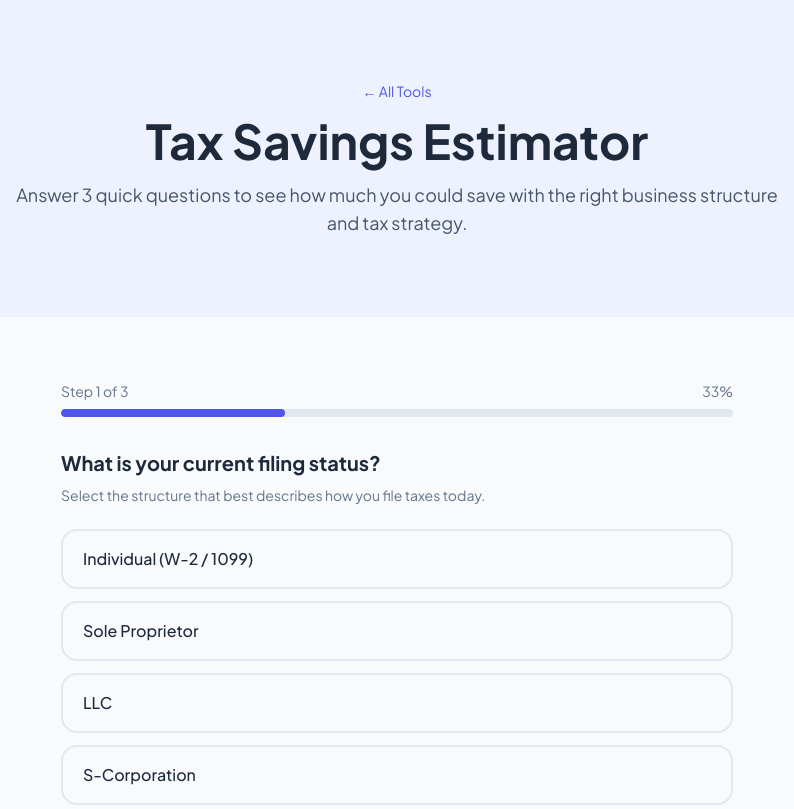
TaxSavingsEstimator – step navigation › step 2 shows all revenue options
The width and height of the screenshot is (794, 809).
What coordinates should you click on to do the following:
click the button "LLC"
I would click on:
 (98, 702)
Its box is top-left (61, 673), bottom-right (733, 733).
(page scrolled)
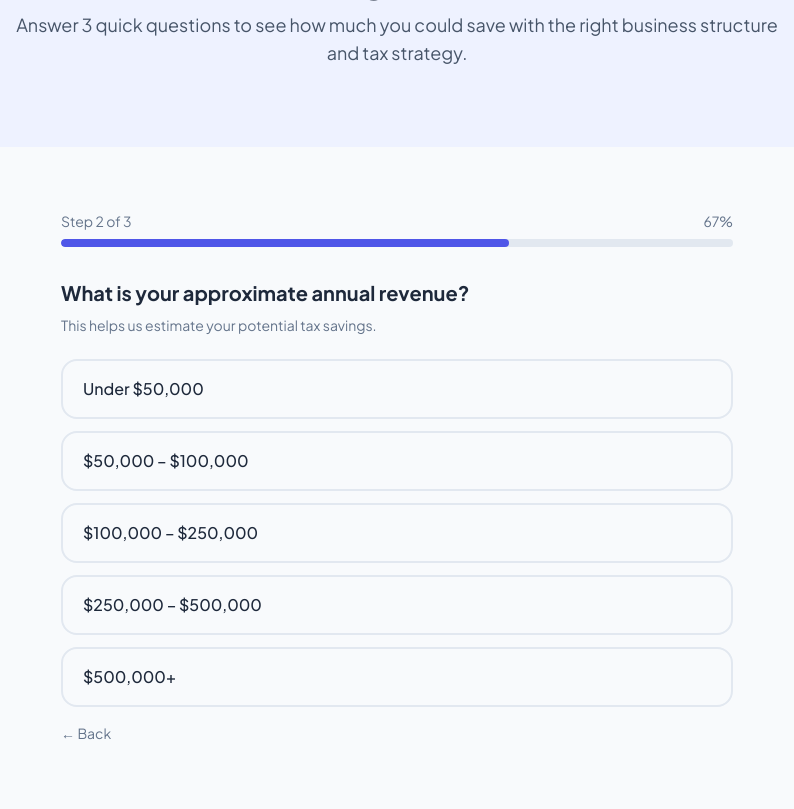
Expected: the text "Under $50,000" is shown, top-left (83, 378), bottom-right (204, 399)
Expected: the text "$50,000 – $100,000" is shown, top-left (83, 450), bottom-right (249, 471)
Expected: the text "$100,000 – $250,000" is shown, top-left (83, 522), bottom-right (258, 543)
